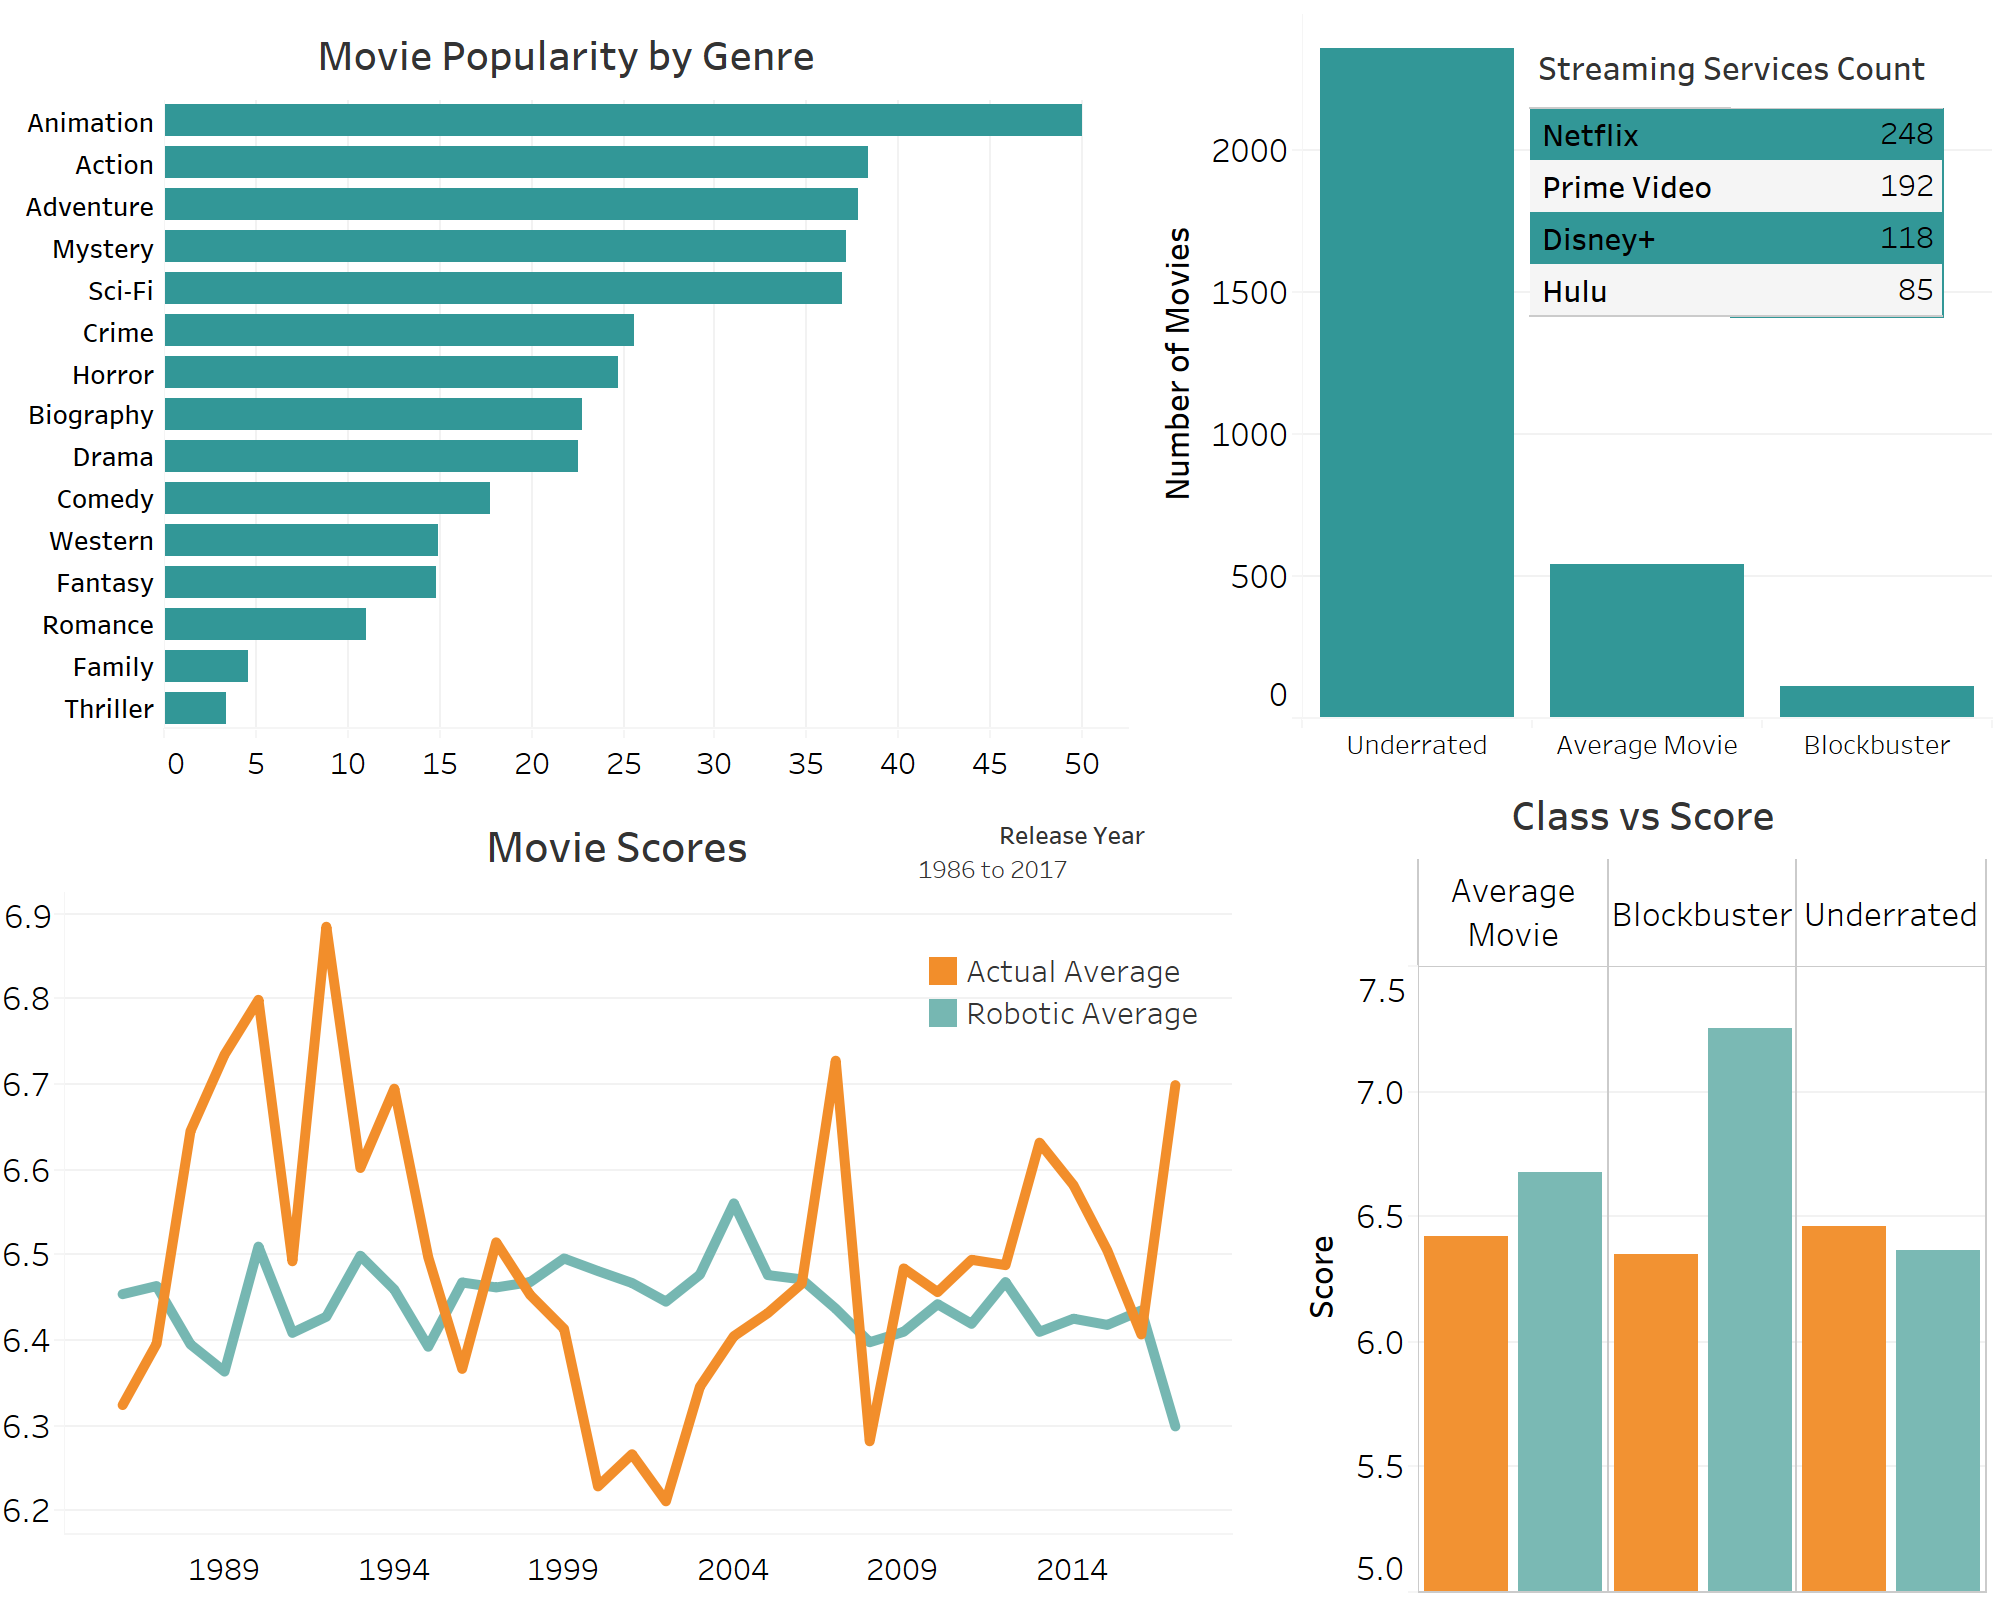

Layout of this report page (visuals, bound fields, positions):
{"tool":"tableau","page":{"name":"ML (3)","canvas":[1000,800],"ordinal":3},"visuals":[{"type":"worksheet","title":"money vs genre","mark":"Pie","rows":["filter_pop"],"cols":["genre"],"box":[2,5,656,387]},{"type":"worksheet","title":"Class count","mark":"Automatic","rows":["Interactive_ML_Data.csv_D98851ABAED14815910729EB9FCC82DC"],"cols":["filter_pop"],"box":[669,18,333,374]},{"type":"worksheet","title":"Class vs Score","mark":"Automatic","cols":["filter_pop"],"box":[649,387,345,410]},{"type":"worksheet","title":"Movie Scores","mark":"Automatic","cols":["release_year"],"box":[1,402,615,395]},{"type":"worksheet","title":"Movie Scores","mark":"Automatic","cols":["release_year"],"param":"[federated.1s57mr21bv3s5y17k1c7v0nprqpc].[tyr:release_year:qk]","box":[456,408,160,61]},{"type":"worksheet","title":"Movie Scores","mark":"Automatic","cols":["release_year"],"param":"[federated.1s57mr21bv3s5y17k1c7v0nprqpc].[:Measure Names]","box":[461,475,143,64]}]}

Visuals, with their boxes in screenshot pixels (x1, y1, x2, y2), scaled from the page's 1000x800 canvas onto the 2000x1600 screenshot:
"money vs genre" worksheet (Pie marks): (4,10,1316,784)
"Class count" worksheet: (1338,36,1999,784)
"Class vs Score" worksheet: (1298,774,1988,1594)
"Movie Scores" worksheet: (2,804,1232,1594)
"Movie Scores" worksheet: (912,816,1232,938)
"Movie Scores" worksheet: (922,950,1208,1078)
